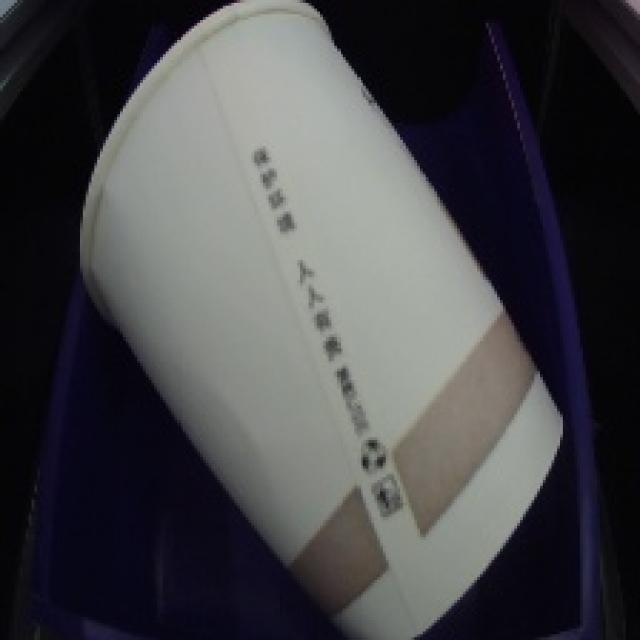cups: (52, 0, 580, 640)
